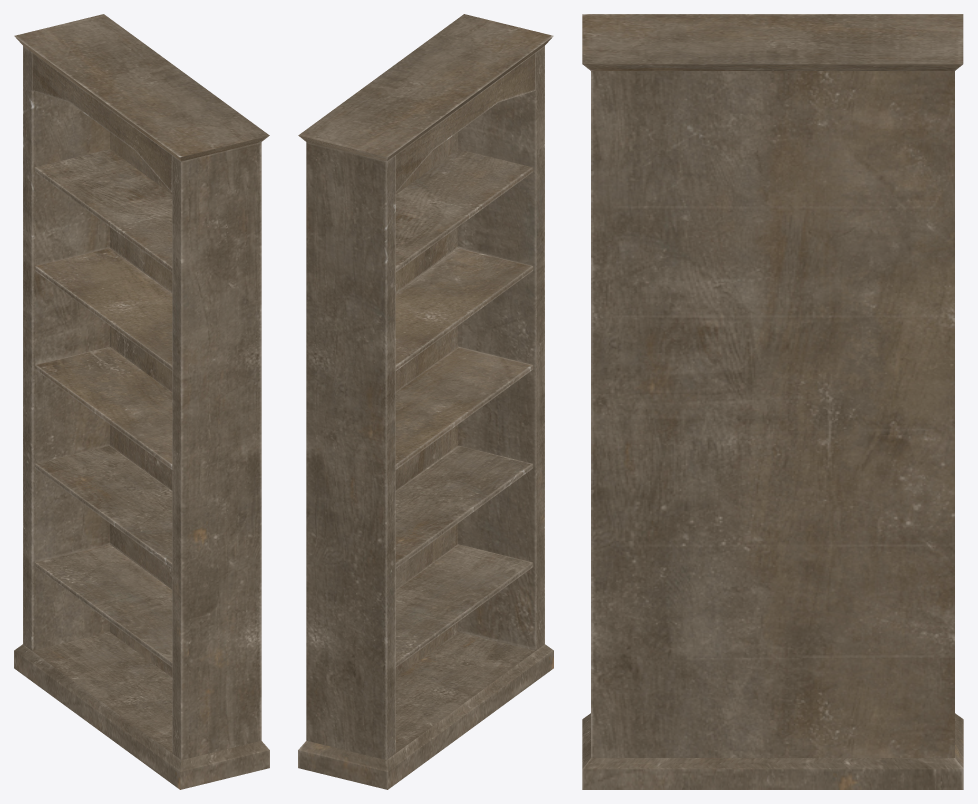
3 views of the same model, side by side, from view 1: azimuth 30°, elevation 25°; view 2: azimuth 150°, elevation 25°; view 3: azimuth 270°, elevation 25° (orthographic). The views are drawn at different scales.
Visible parts, largest first — view 1: Box001; view 2: Box001; view 3: Box001.
Part boxes in pixels (box(x1,y1,x2,y2)): Box001: box(14, 14, 269, 789); Box001: box(298, 14, 553, 789); Box001: box(582, 14, 963, 789).
Size of the model in its own units: 0.3593 by 2.42 by 1.15.
1 material, 1 textured.
